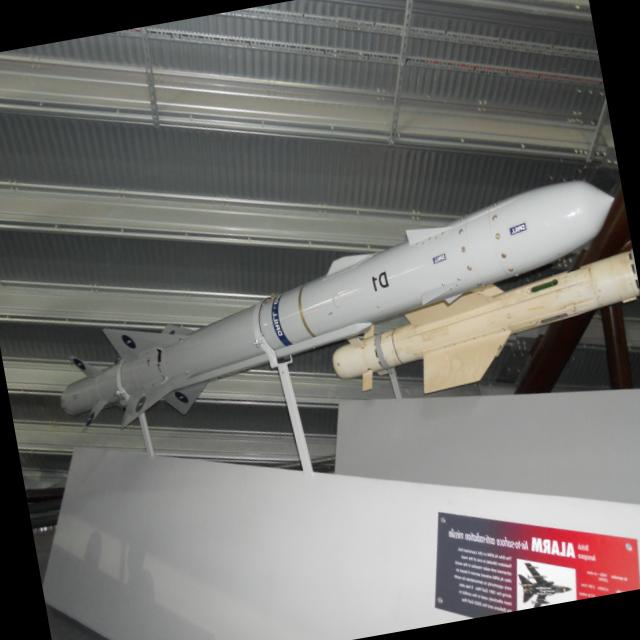rocket: (34, 165, 640, 456)
